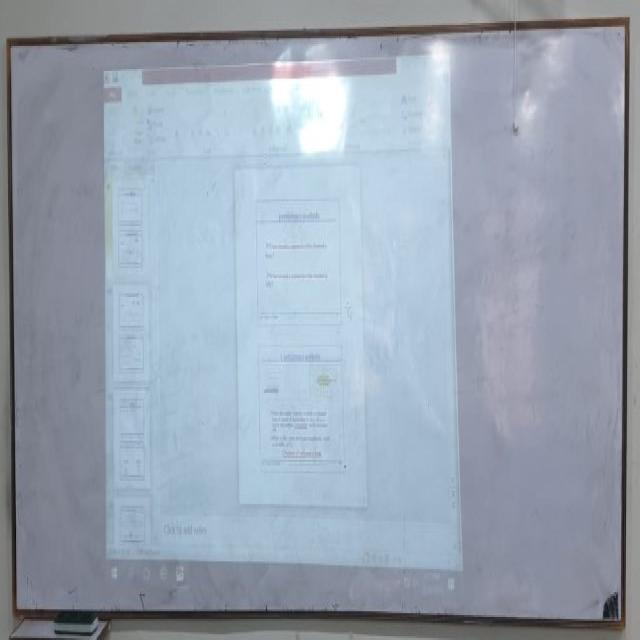Slide: (102, 37, 465, 599)
White-board: (9, 24, 629, 625)
